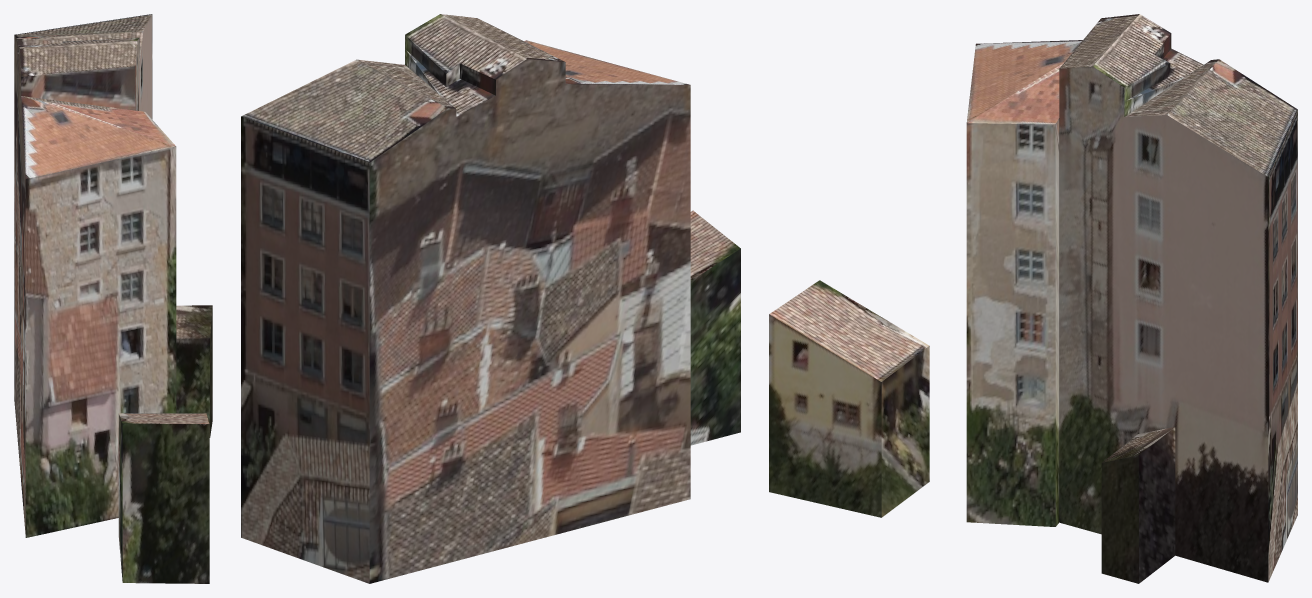
3 renders of one model, left to right at view 1: azimuth 30°, elevation 25°; view 2: azimuth 150°, elevation 25°; view 3: azimuth 270°, elevation 25°, orthographic. The views are drawn at different scales.
Parts seen in each view (by area): view 1: Z_UP; view 2: Z_UP; view 3: Z_UP.
Boxes of the visible parts, <box> form: Z_UP: <box>14,14,212,583</box>; Z_UP: <box>241,14,740,583</box>; Z_UP: <box>769,14,1297,583</box>.
Size of the model in its own units: 16.73 by 25.74 by 26.49.
2 materials, 1 textured.
